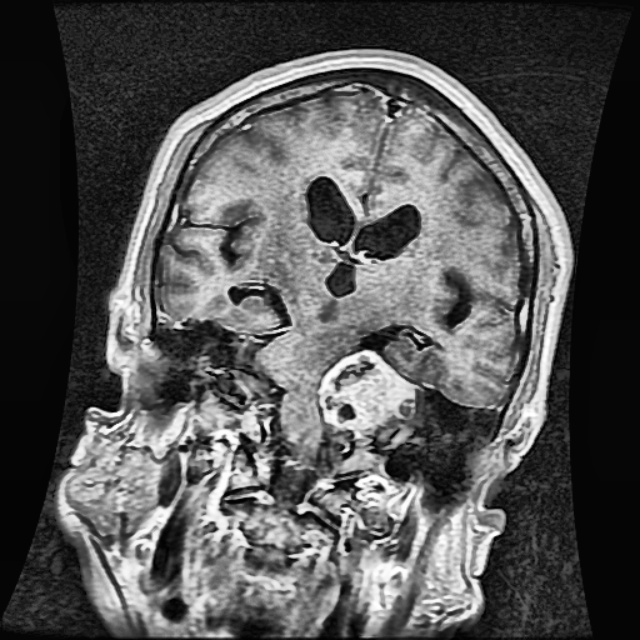Glioma: (319, 349, 414, 428)
